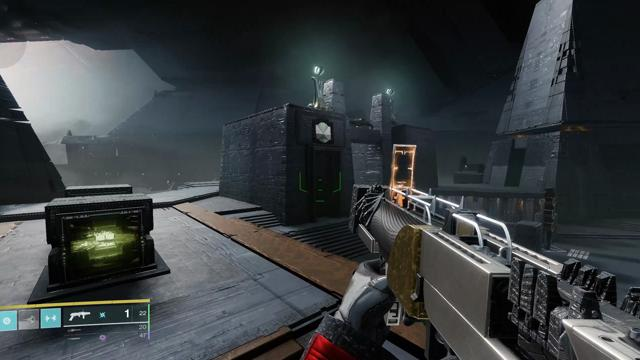commune: (316, 123, 331, 143)
kill: (518, 200, 523, 211)
